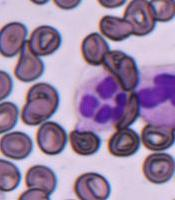N: (74, 70, 130, 130)
